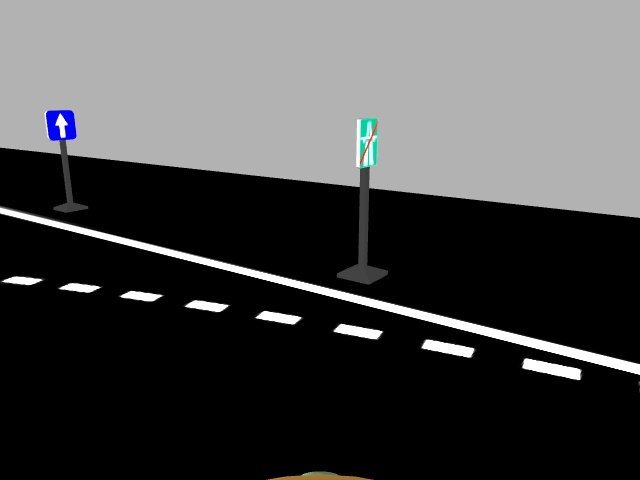HighwayExit: (353, 116, 380, 169)
OneWay: (39, 107, 77, 141)
